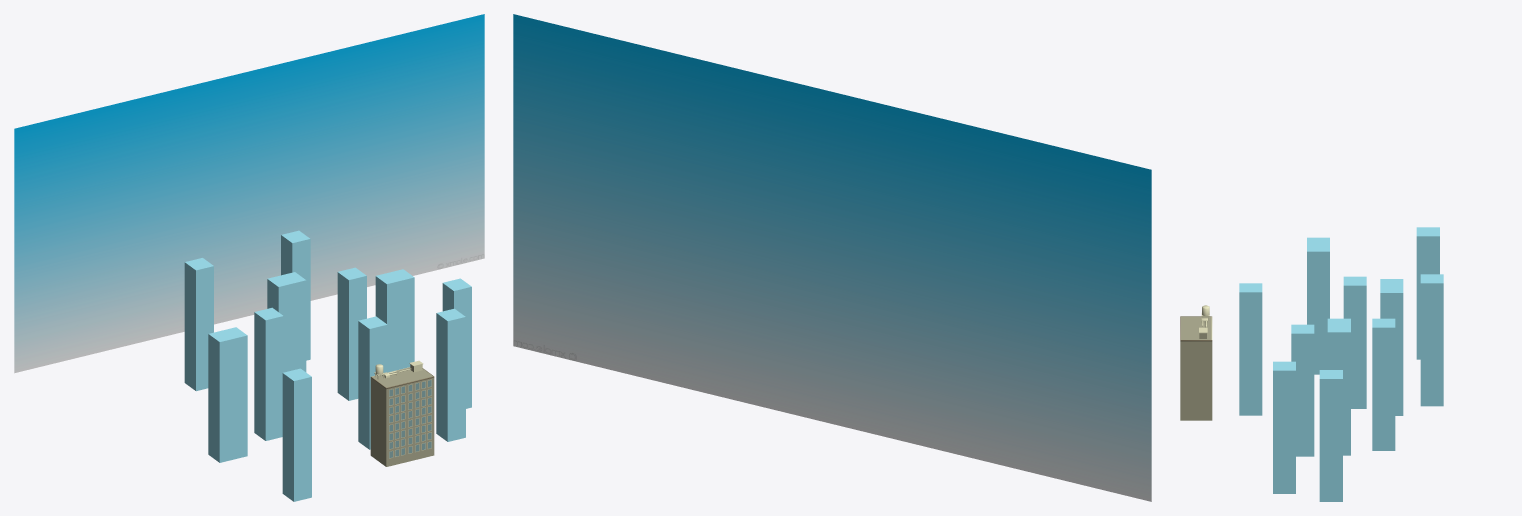
The model's file is Roof_new1.fbx.
3 views of the same model, side by side, from view 1: azimuth 30°, elevation 25°; view 2: azimuth 150°, elevation 25°; view 3: azimuth 270°, elevation 25° (orthographic). The views are drawn at different scales.
Parts seen in each view (by area): view 1: background, background.001, home; view 2: background; view 3: background.001, home.
Part boxes in pixels (x1,y1,x2,y2): background: [14, 14, 484, 373]; background.001: [184, 230, 471, 501]; home: [370, 360, 434, 466]; background: [513, 14, 1151, 501]; background.001: [1239, 227, 1443, 501]; home: [1180, 305, 1212, 420].
Bounding box in the file's own units: 18544 × 11797 × 10978.
